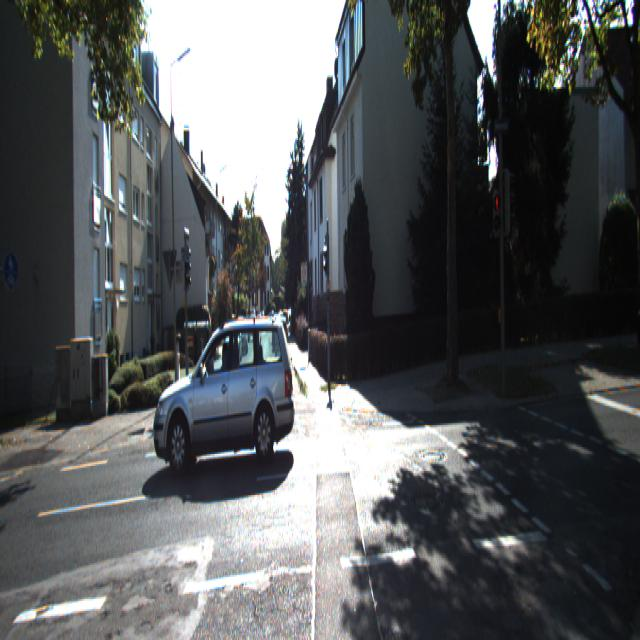Car: (148, 313, 294, 475), (224, 321, 242, 363), (273, 314, 288, 357)
